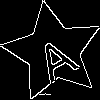A: (28, 27, 81, 84)
